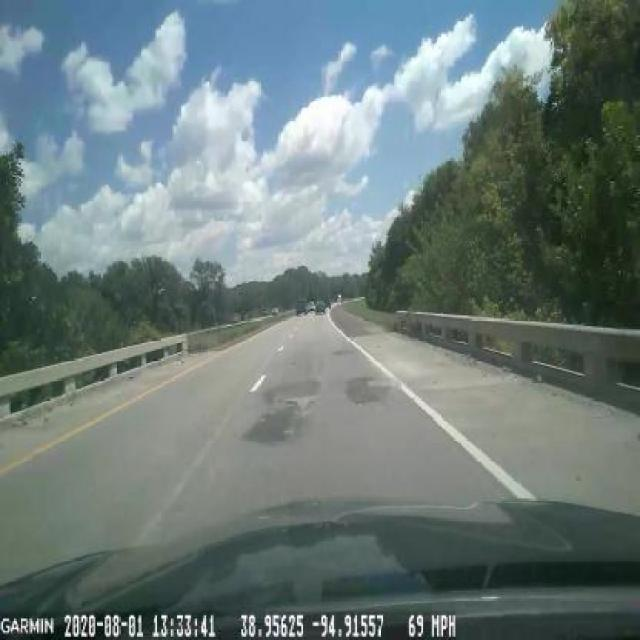Pothole: (240, 383, 322, 459), (337, 369, 395, 413)
